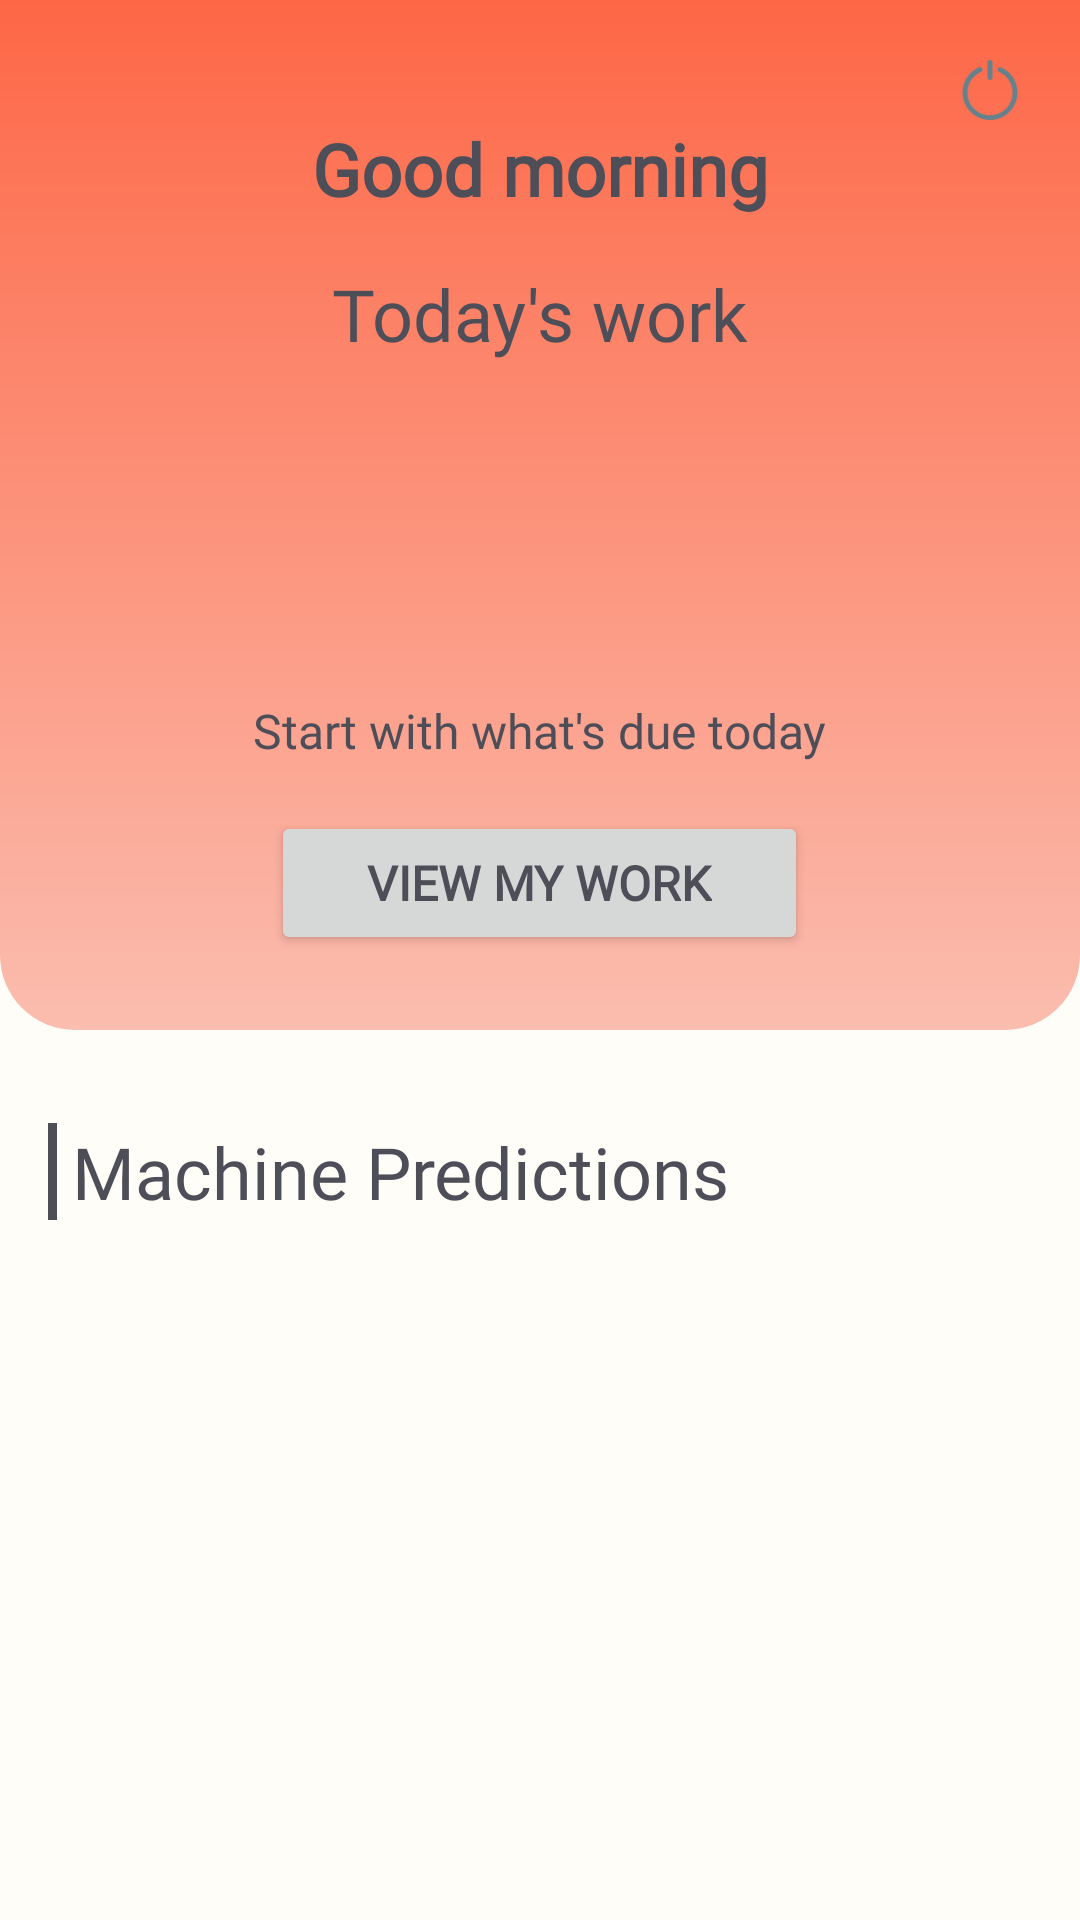

Screen size 1080w x 1920h. Icon name, then its box in pixels as (x1, y1, x2, y2):
power: (962, 60, 1018, 120)
